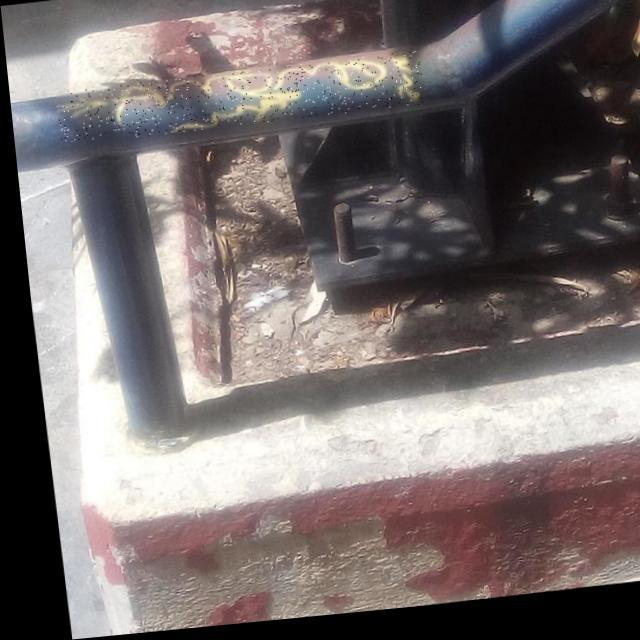-: (52, 58, 422, 146)
